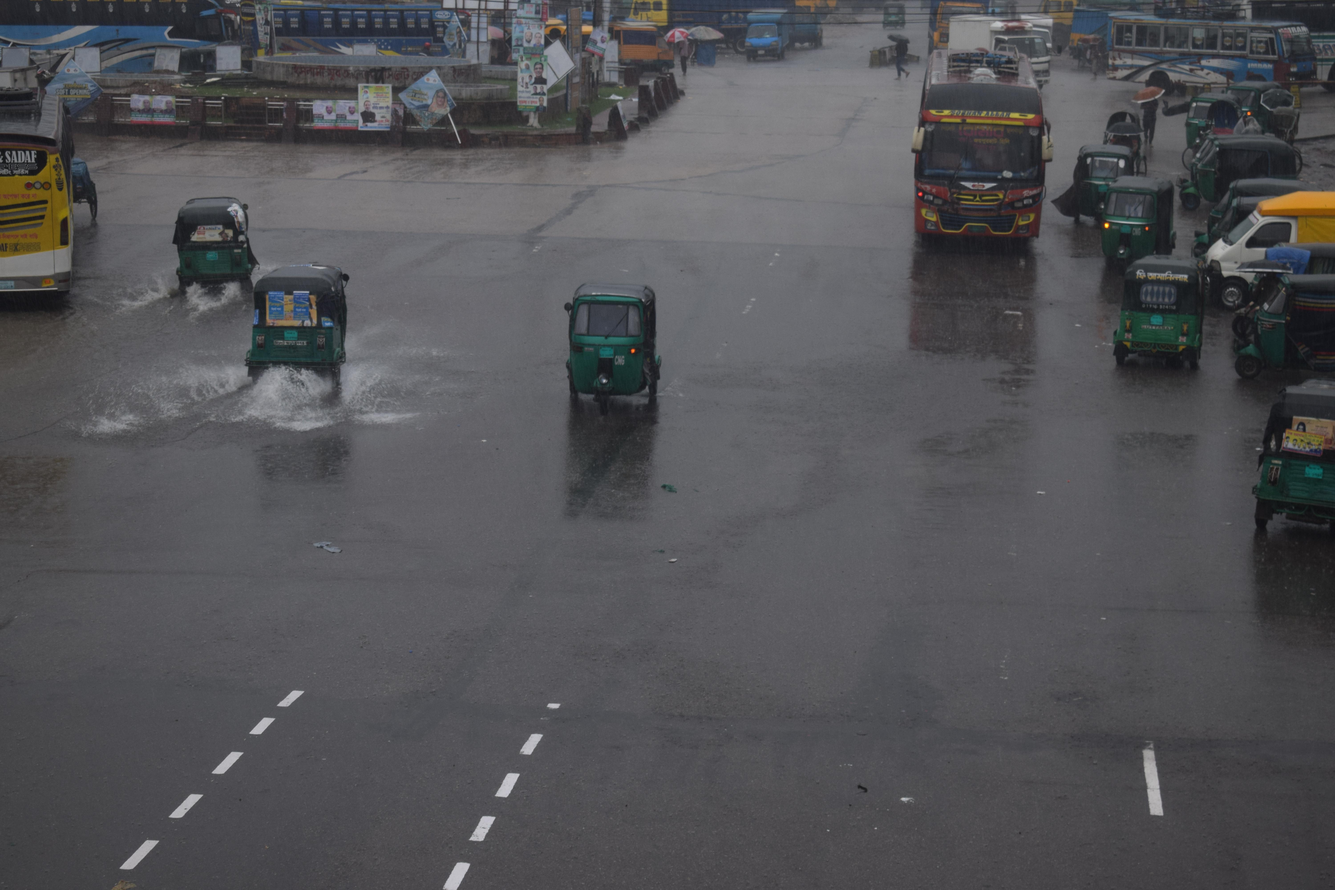Bus: (894, 19, 1085, 289), (0, 0, 270, 118), (195, 0, 508, 95), (0, 107, 120, 331), (1094, 0, 1335, 100)
Car: (1185, 185, 1335, 285), (583, 12, 674, 83), (723, 8, 795, 71)
